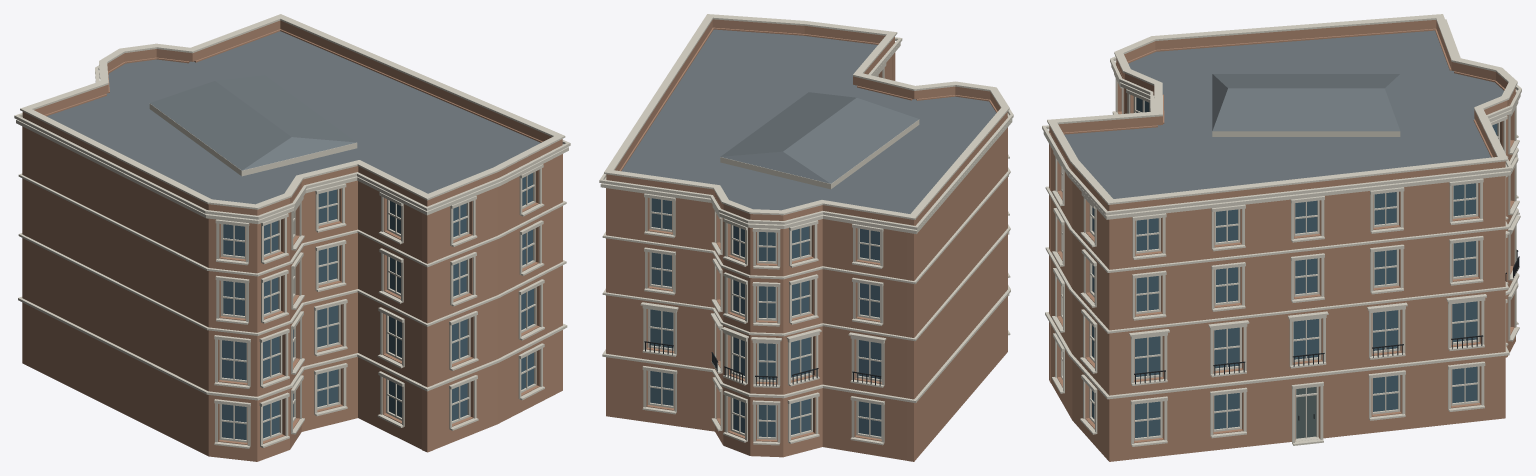
File: replacement.glb
The picture shows the model from 3 angles, left to right: view 1: azimuth 30°, elevation 25°; view 2: azimuth 150°, elevation 25°; view 3: azimuth 270°, elevation 25°; orthographic projection. The views are drawn at different scales.
Parts seen in each view (by area): view 1: 23 Kensington Gore | pierced wall, 23 Kensington Gore | mapped roof deck, 23 Kensington Gore | string courses and cornice, 23 Kensington Gore | recessed glass, 23 Kensington Gore | architraves, 23 Kensington Gore | estimated shallow hipped roof, 23 Kensington Gore | roof parapet, 23 Kensington Gore | roof coping, 23 Kensington Gore | joinery, 23 Kensington Gore | sills, 23 Kensington Gore | sash mullions, 23 Kensington Gore | roof lantern curb; view 2: 23 Kensington Gore | pierced wall, 23 Kensington Gore | mapped roof deck, 23 Kensington Gore | recessed glass, 23 Kensington Gore | estimated shallow hipped roof, 23 Kensington Gore | string courses and cornice, 23 Kensington Gore | architraves, 23 Kensington Gore | roof coping, 23 Kensington Gore | roof parapet, 23 Kensington Gore | joinery, 23 Kensington Gore | sills, 23 Kensington Gore | sash mullions, 23 Kensington Gore | roof lantern curb (+2 smaller); view 3: 23 Kensington Gore | pierced wall, 23 Kensington Gore | mapped roof deck, 23 Kensington Gore | recessed glass, 23 Kensington Gore | architraves, 23 Kensington Gore | string courses and cornice, 23 Kensington Gore | estimated shallow hipped roof, 23 Kensington Gore | roof parapet, 23 Kensington Gore | roof coping, 23 Kensington Gore | joinery, 23 Kensington Gore | sills, 23 Kensington Gore | sash mullions, 23 Kensington Gore | roof lantern curb (+3 smaller).
Boxes of the visible parts, <box> form: 23 Kensington Gore | pierced wall: <box>22,29,562,461</box>; 23 Kensington Gore | mapped roof deck: <box>47,31,540,204</box>; 23 Kensington Gore | string courses and cornice: <box>14,65,570,400</box>; 23 Kensington Gore | recessed glass: <box>222,173,533,439</box>; 23 Kensington Gore | architraves: <box>99,76,544,446</box>; 23 Kensington Gore | estimated shallow hipped roof: <box>150,75,356,170</box>; 23 Kensington Gore | roof parapet: <box>22,20,562,215</box>; 23 Kensington Gore | roof coping: <box>20,14,565,209</box>; 23 Kensington Gore | joinery: <box>219,171,536,442</box>; 23 Kensington Gore | sills: <box>214,203,544,448</box>; 23 Kensington Gore | sash mullions: <box>219,176,536,439</box>; 23 Kensington Gore | roof lantern curb: <box>149,103,357,176</box>; 23 Kensington Gore | pierced wall: <box>606,27,1007,461</box>; 23 Kensington Gore | mapped roof deck: <box>621,29,996,213</box>; 23 Kensington Gore | recessed glass: <box>650,198,881,437</box>; 23 Kensington Gore | estimated shallow hipped roof: <box>720,92,918,183</box>; 23 Kensington Gore | string courses and cornice: <box>599,37,1013,403</box>; 23 Kensington Gore | architraves: <box>642,63,1009,443</box>; 23 Kensington Gore | roof coping: <box>604,14,1009,219</box>; 23 Kensington Gore | roof parapet: <box>606,19,1007,225</box>; 23 Kensington Gore | joinery: <box>648,75,881,439</box>; 23 Kensington Gore | sills: <box>642,154,1010,445</box>; 23 Kensington Gore | sash mullions: <box>648,199,881,438</box>; 23 Kensington Gore | roof lantern curb: <box>720,119,919,189</box>; 23 Kensington Gore | pierced wall: <box>1049,28,1515,461</box>; 23 Kensington Gore | mapped roof deck: <box>1064,30,1503,198</box>; 23 Kensington Gore | recessed glass: <box>1092,97,1497,437</box>; 23 Kensington Gore | architraves: <box>1053,73,1518,444</box>; 23 Kensington Gore | string courses and cornice: <box>1042,19,1521,399</box>; 23 Kensington Gore | estimated shallow hipped roof: <box>1212,74,1400,131</box>; 23 Kensington Gore | roof parapet: <box>1049,20,1515,210</box>; 23 Kensington Gore | roof coping: <box>1047,14,1517,204</box>; 23 Kensington Gore | joinery: <box>1061,88,1510,440</box>; 23 Kensington Gore | sills: <box>1052,111,1519,446</box>; 23 Kensington Gore | sash mullions: <box>1061,93,1499,439</box>; 23 Kensington Gore | roof lantern curb: <box>1212,131,1400,136</box>.
Size of the model in its own units: 21.92 by 14.27 by 22.98.
